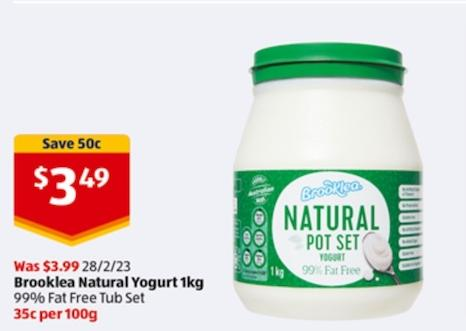description_block: (8, 277, 206, 308)
price_main: (7, 150, 151, 248)
product_image_block: (213, 20, 439, 327)
promo_text_block: (1, 125, 137, 156)
unit_price_block: (6, 305, 111, 328)
